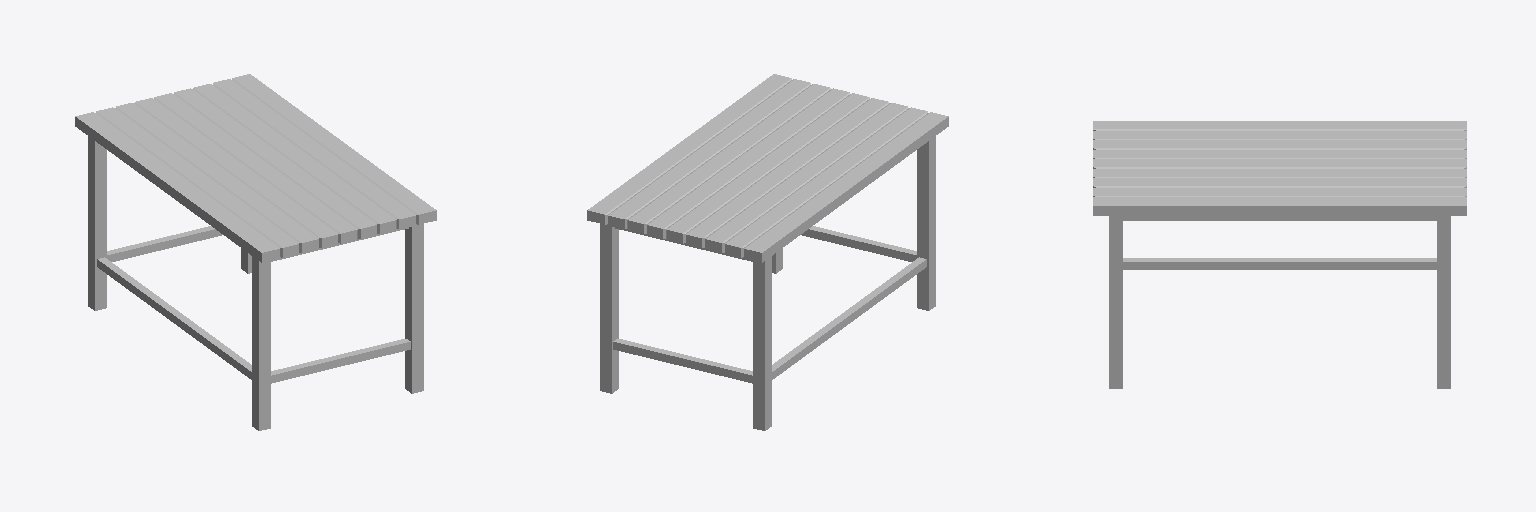
The model's file is Table.obj.
3 views of the same model, side by side, from view 1: azimuth 30°, elevation 25°; view 2: azimuth 150°, elevation 25°; view 3: azimuth 270°, elevation 25° (orthographic).
Visible parts, largest first — view 1: Cube; view 2: Cube; view 3: Cube.
Boxes of the visible parts, x1=… form: Cube: x1=75, y1=74, x2=436, y2=430; Cube: x1=587, y1=74, x2=948, y2=430; Cube: x1=1093, y1=121, x2=1466, y2=388.
Size of the model in its own units: 3.2 by 3.24 by 5.92.